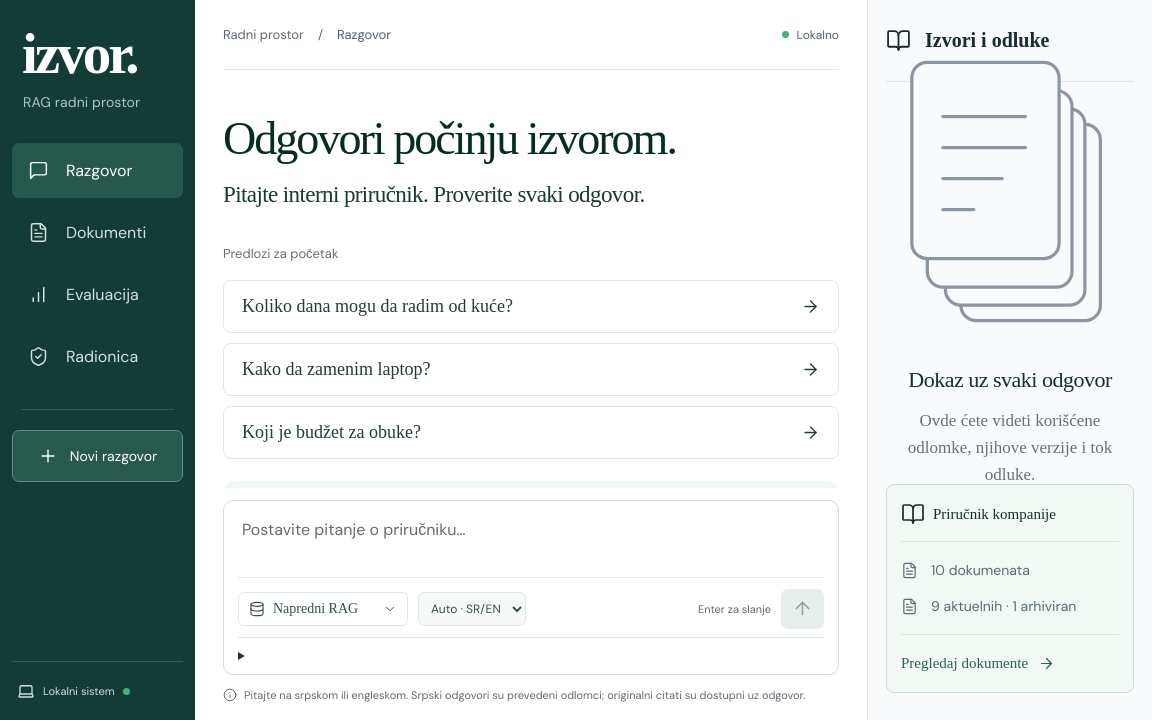
Test case: real UI contracts › shows the actual archived status of a source
Select "English" in the dropdown named "Jezik pitanja" at (472,608), box [418,592,526,626]
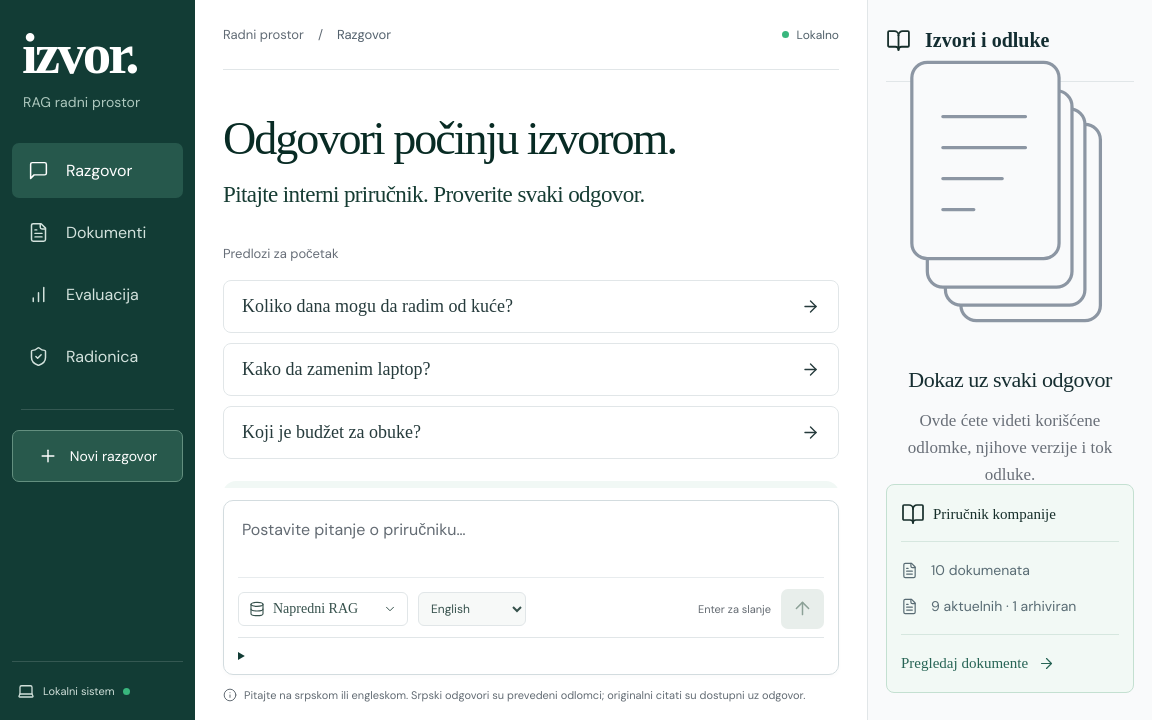
Click the button "Koliko dana mogu da radim od kuće?" at (377,306), box [223,280,839,333]
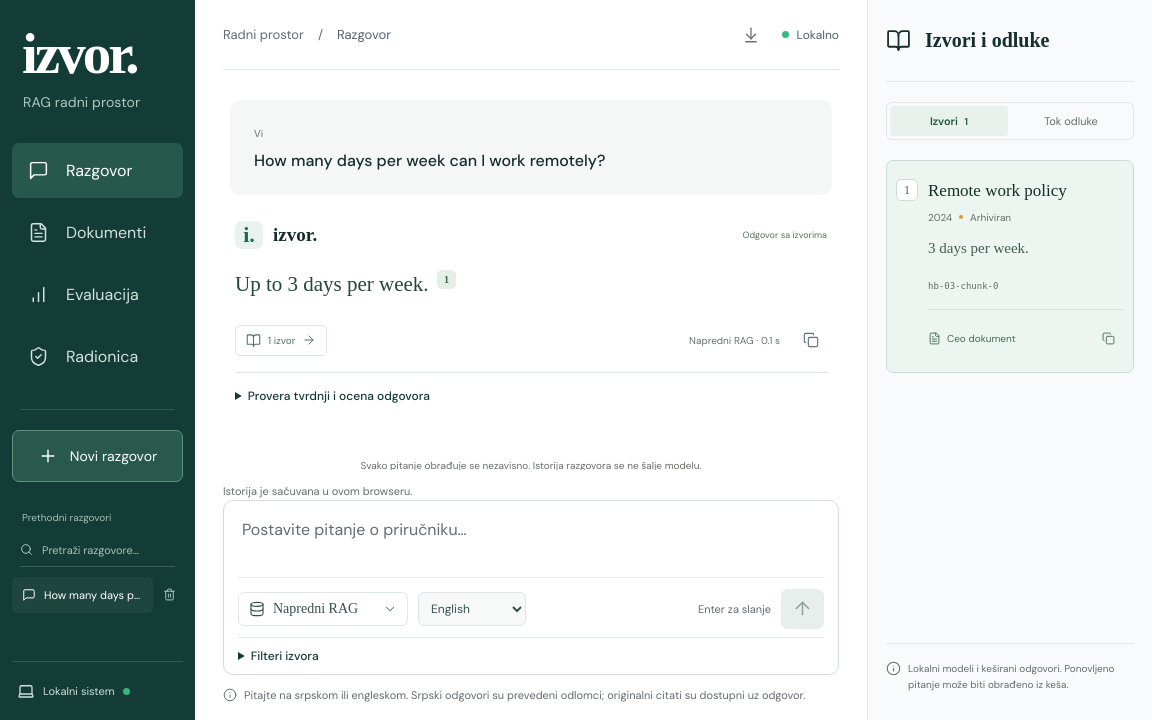
Check: the text "Up to 3 days per week." is shown, box [235,272,434,296]
Check: the text "2024 Arhiviran" is shown, box [928,211,1011,224]
